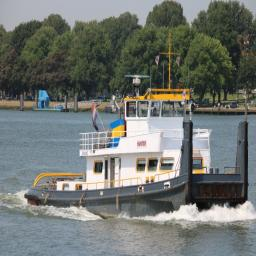tugboat: (23, 32, 251, 224)
